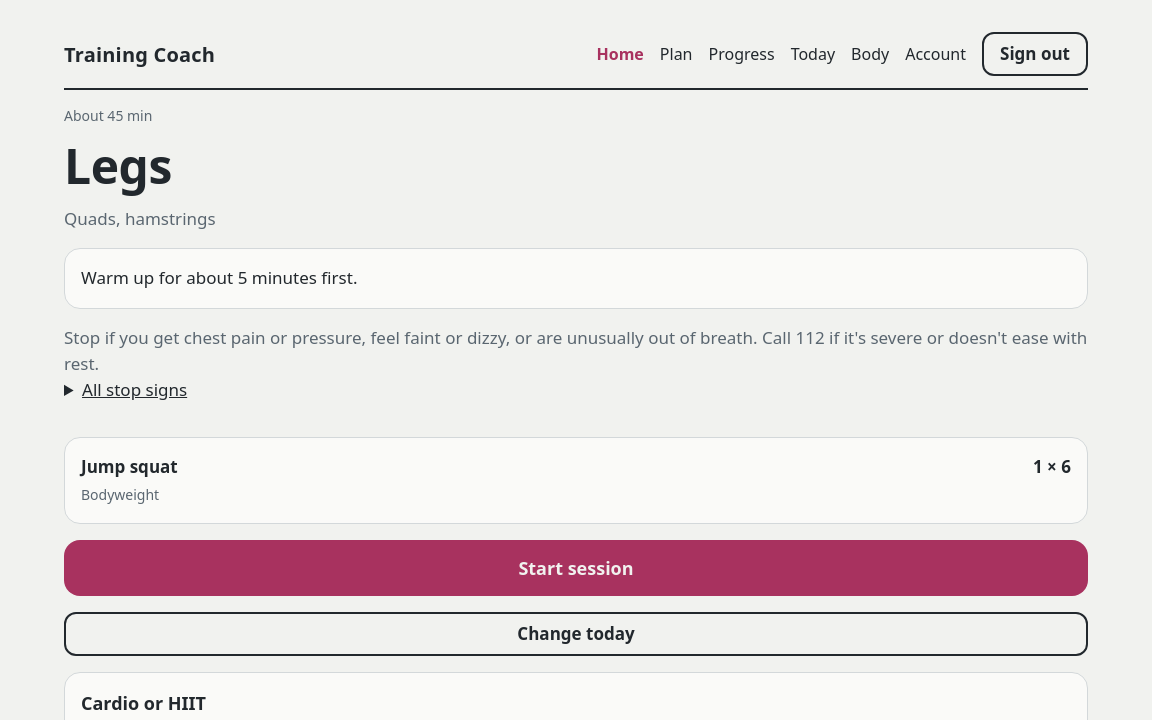
Test: Swap with nothing planned any more (409) reloads too
Click the button "Change today".
click(576, 634)  # box [64,612,1088,656]
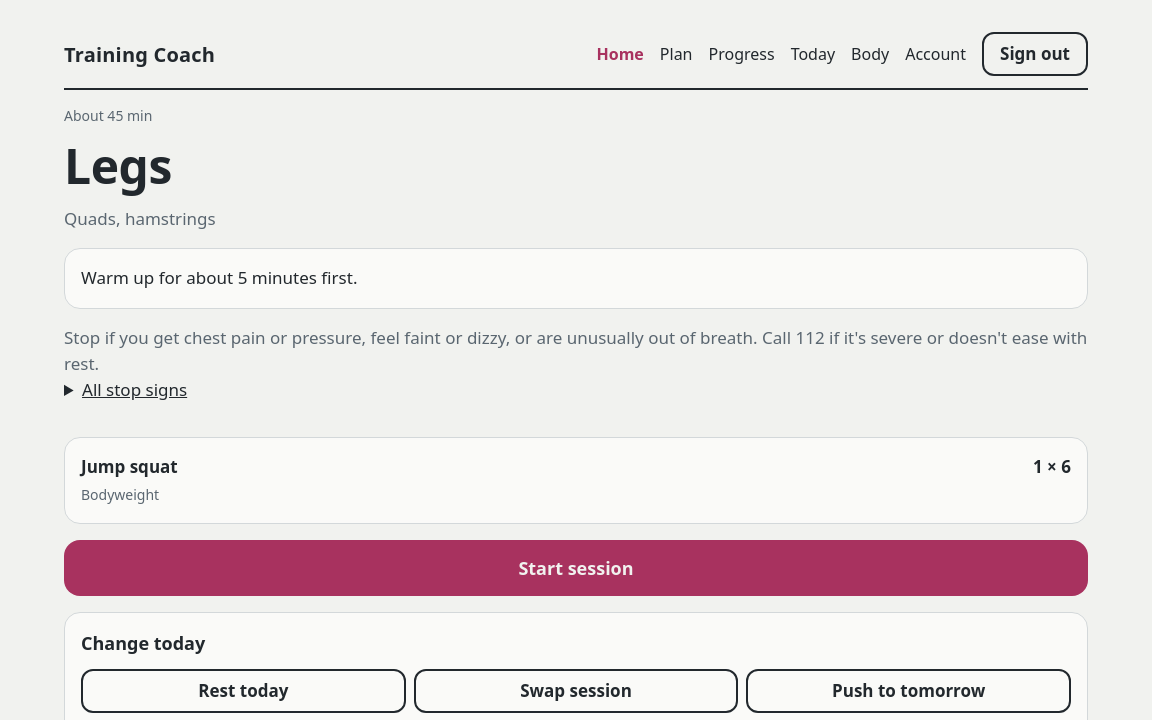
Click the button "Swap session".
click(576, 691)  # box [414,669,738,713]
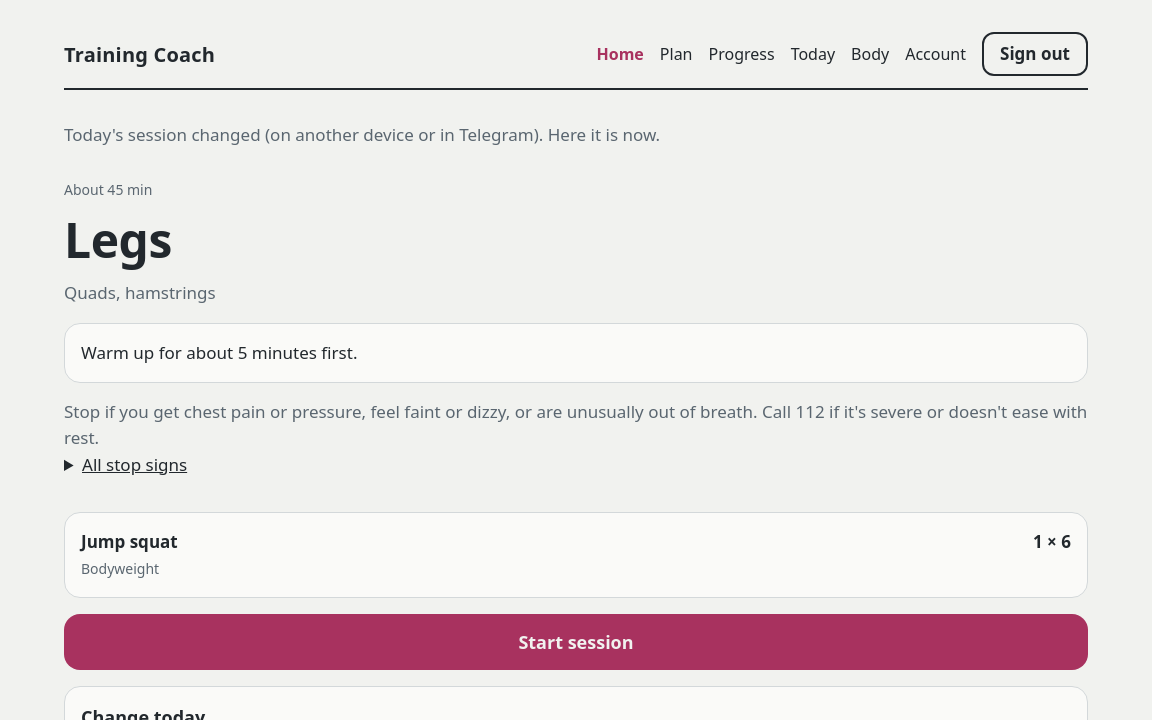
Expected: the text "Today's session changed (on another device or in Telegram). Here it is now." is shown, [64,123,660,146]
